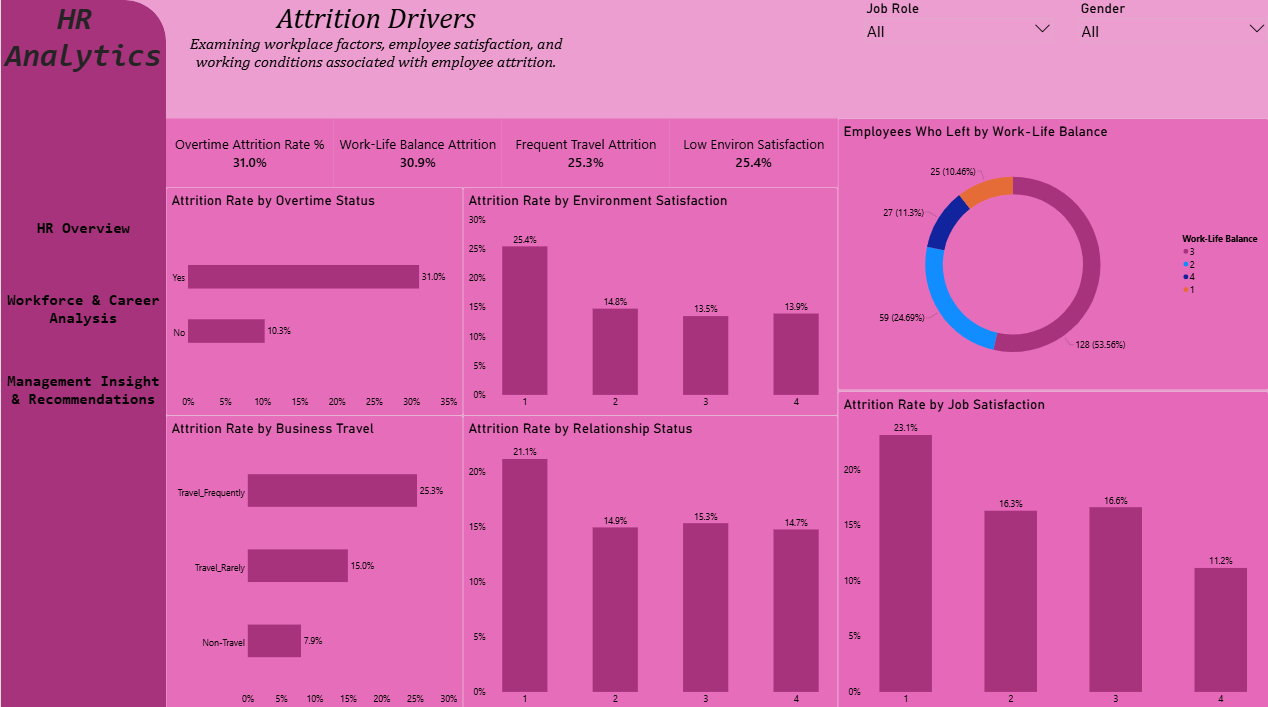

Layout of this report page (visuals, bound fields, positions):
{"tool":"powerbi","page":{"name":"Attrition Drivers","canvas":[3840,2160],"ordinal":1},"visuals":[{"type":"shape","box":[0,0,499.7,2157.7],"z":0},{"type":"clusteredBarChart","title":"Attrition Rate by Overtime Status","fields":{"Category":["496f786e-f4ca-42cd-b43c-a809dec.OverTime"],"Y":["496f786e-f4ca-42cd-b43c-a809dec.Department Attrition Rate %"]},"box":[499.7,567.8,899.4,690.5],"z":1000},{"type":"clusteredColumnChart","title":"Attrition Rate by Job Satisfaction","fields":{"Category":["496f786e-f4ca-42cd-b43c-a809dec.JobSatisfaction"],"Y":["496f786e-f4ca-42cd-b43c-a809dec.Department Attrition Rate %"]},"box":[2534.8,1185.6,1303.7,972.1],"z":2000},{"type":"donutChart","title":"Employees Who Left by Work-Life Balance","fields":{"Category":["496f786e-f4ca-42cd-b43c-a809dec.WorkLifeBalance"],"Y":["496f786e-f4ca-42cd-b43c-a809dec.Employees Who Left"]},"box":[2534.8,358.9,1303.7,822.2],"z":3000},{"type":"clusteredBarChart","title":"Attrition Rate by Business Travel","fields":{"Category":["496f786e-f4ca-42cd-b43c-a809dec.BusinessTravel"],"Y":["496f786e-f4ca-42cd-b43c-a809dec.Attrition Rate %"]},"box":[499.7,1258.3,899.4,899.4],"z":4000},{"type":"clusteredColumnChart","title":"Attrition Rate by Environment Satisfaction","fields":{"Category":["496f786e-f4ca-42cd-b43c-a809dec.EnvironmentSatisfaction"],"Y":["496f786e-f4ca-42cd-b43c-a809dec.Department Attrition Rate %"]},"box":[1399.1,567.8,1135.7,690.5],"z":5000},{"type":"clusteredColumnChart","title":"Attrition Rate by Relationship Status","fields":{"Category":["496f786e-f4ca-42cd-b43c-a809dec.RelationshipSatisfaction"],"Y":["496f786e-f4ca-42cd-b43c-a809dec.Department Attrition Rate %"]},"box":[1399.1,1258.3,1135.7,899.4],"z":6000},{"type":"cardVisual","fields":{"Data":["496f786e-f4ca-42cd-b43c-a809dec.Overtime Attrition Rate %"]},"box":[499.7,358.9,508.8,209],"z":7000},{"type":"cardVisual","fields":{"Data":["496f786e-f4ca-42cd-b43c-a809dec.Work-Life Balance Attrition Rate %"]},"box":[1008.5,358.9,508.8,209],"z":8000},{"type":"cardVisual","fields":{"Data":["496f786e-f4ca-42cd-b43c-a809dec.Frequent Travel Attrition Rate %"]},"box":[1517.2,358.9,508.8,209],"z":9000},{"type":"cardVisual","fields":{"Data":["496f786e-f4ca-42cd-b43c-a809dec.Low Environment Satisfaction Attrition %"]},"box":[2026,358.9,508.8,209],"z":10000},{"type":"slicer","fields":{"Values":["496f786e-f4ca-42cd-b43c-a809dec.Gender"]},"box":[3261.6,0,576.9,168.1],"z":11000},{"type":"slicer","fields":{"Values":["496f786e-f4ca-42cd-b43c-a809dec.JobRole"]},"box":[2612,0,576.9,168.1],"z":12000},{"type":"textbox","box":[499.7,0,1271.9,358.9],"z":12001},{"type":"textbox","box":[0,0,499.7,358.9],"z":12002},{"type":"actionButton","box":[0,567.8,499.7,245.3],"z":12003},{"type":"actionButton","box":[0,813.1,499.7,245.3],"z":12004},{"type":"actionButton","box":[0,1058.4,499.7,245.3],"z":12005}]}

Visuals, with their boxes in screenshot pixels (x1, y1, x2, y2), scaled from the page's 3840x2160 canvas onto the 1268x707 screenshot:
shape: region(0, 0, 165, 706)
"Attrition Rate by Overtime Status" clusteredBarChart: region(165, 186, 462, 412)
"Attrition Rate by Job Satisfaction" clusteredColumnChart: region(837, 388, 1267, 706)
"Employees Who Left by Work-Life Balance" donutChart: region(837, 117, 1267, 387)
"Attrition Rate by Business Travel" clusteredBarChart: region(165, 412, 462, 706)
"Attrition Rate by Environment Satisfaction" clusteredColumnChart: region(462, 186, 837, 412)
"Attrition Rate by Relationship Status" clusteredColumnChart: region(462, 412, 837, 706)
cardVisual - 496f786e-f4ca-42cd-b43c-a809dec.Overtime Attrition Rate %: region(165, 117, 333, 186)
cardVisual - 496f786e-f4ca-42cd-b43c-a809dec.Work-Life Balance Attrition Rate %: region(333, 117, 501, 186)
cardVisual - 496f786e-f4ca-42cd-b43c-a809dec.Frequent Travel Attrition Rate %: region(501, 117, 669, 186)
cardVisual - 496f786e-f4ca-42cd-b43c-a809dec.Low Environment Satisfaction Attrition %: region(669, 117, 837, 186)
slicer - 496f786e-f4ca-42cd-b43c-a809dec.Gender: region(1077, 0, 1267, 55)
slicer - 496f786e-f4ca-42cd-b43c-a809dec.JobRole: region(863, 0, 1053, 55)
textbox: region(165, 0, 585, 117)
textbox: region(0, 0, 165, 117)
actionButton: region(0, 186, 165, 266)
actionButton: region(0, 266, 165, 346)
actionButton: region(0, 346, 165, 427)
